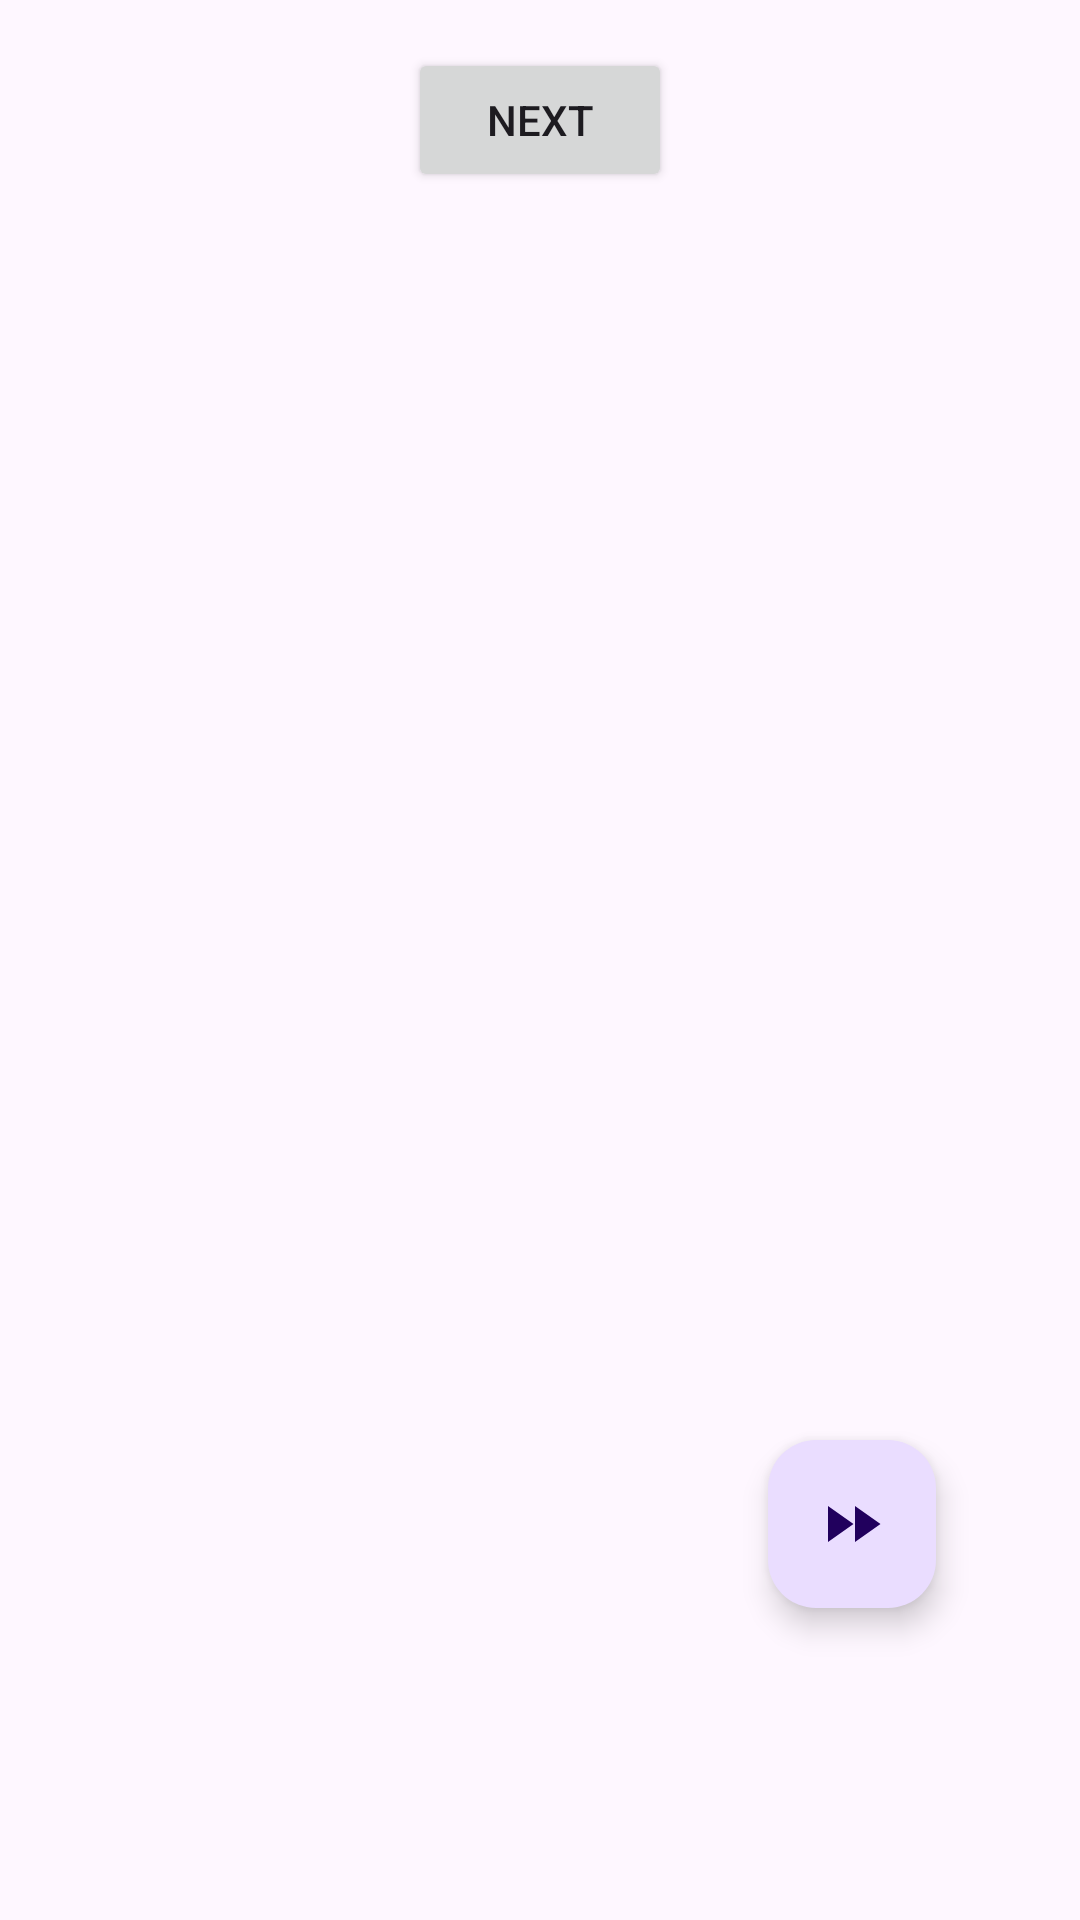

Icon bounding boxes for this 1080 × 1920 phone screenshot, format (x1, y1, x2, y2):
fast forward: (768, 1440, 936, 1608)
